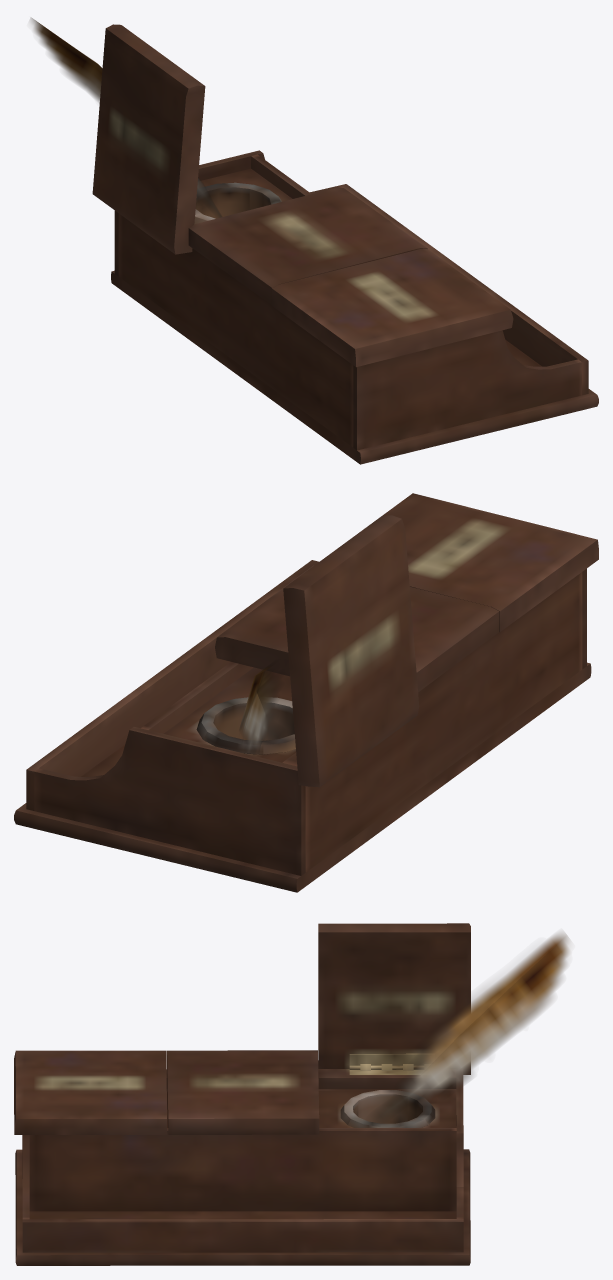
File: inkstand-quill.glb
The picture shows the model from 3 angles, top to bottom: view 1: azimuth 30°, elevation 25°; view 2: azimuth 150°, elevation 25°; view 3: azimuth 270°, elevation 25°; orthographic projection. The views are drawn at different scales.
Parts seen in each view (by area): view 1: inkstand-quill; view 2: inkstand-quill; view 3: inkstand-quill.
Part boxes in pixels (x1,y1,x2,y2): inkstand-quill: (30, 18, 598, 464); inkstand-quill: (14, 493, 598, 892); inkstand-quill: (14, 923, 569, 1265).
Size of the model in its own units: 0.1483 by 0.1316 by 0.2972.
Materials: 1 (1 with a texture image).
